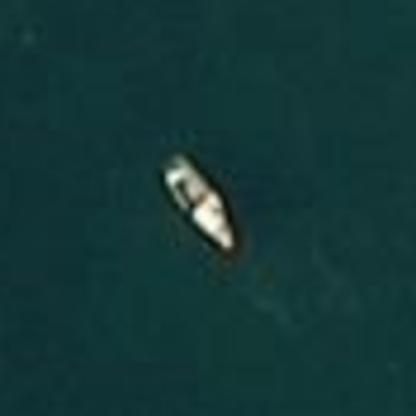ship: (150, 142, 244, 258)
